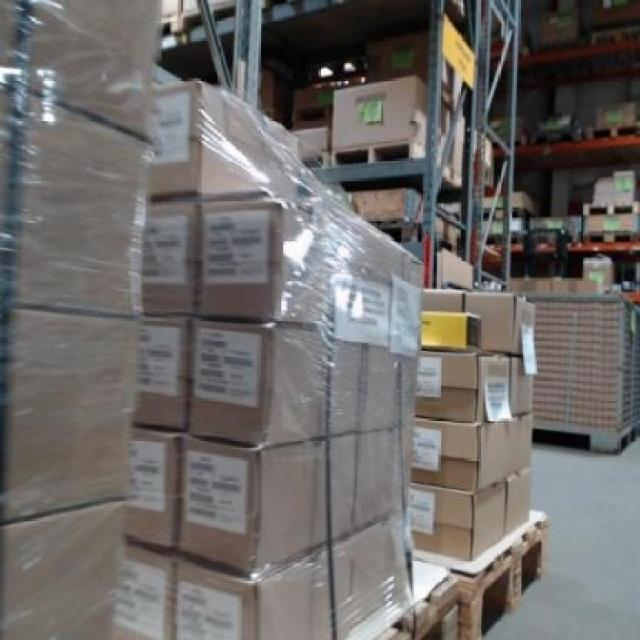pallets: (528, 294, 637, 448)
